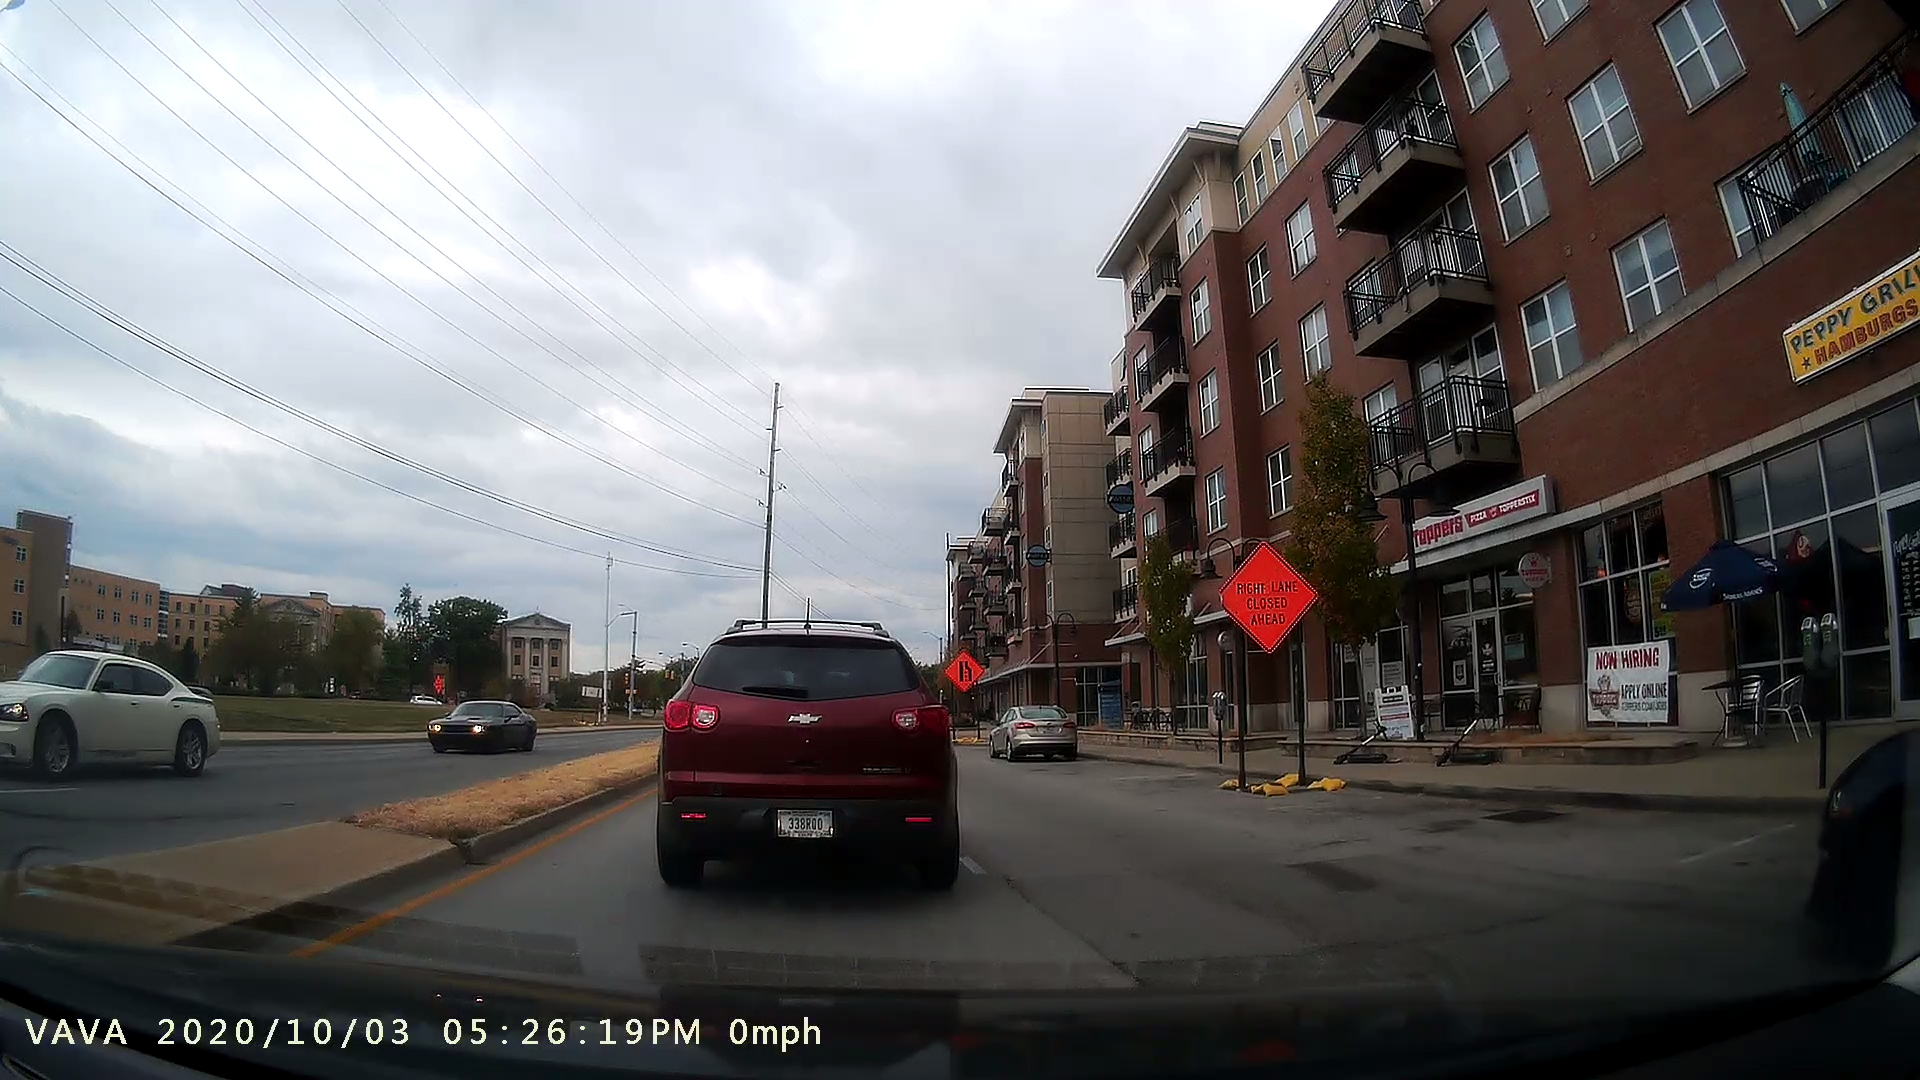ttcs_right_lane_closed_ahead: (1208, 535, 1353, 804)
